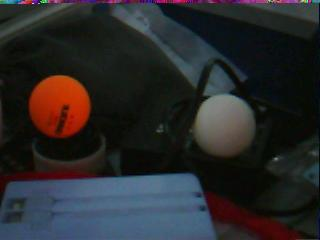oball: (28, 75, 90, 136)
